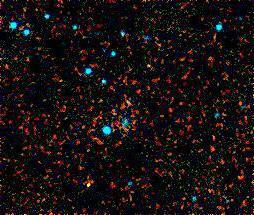star: (76, 167, 106, 197)
